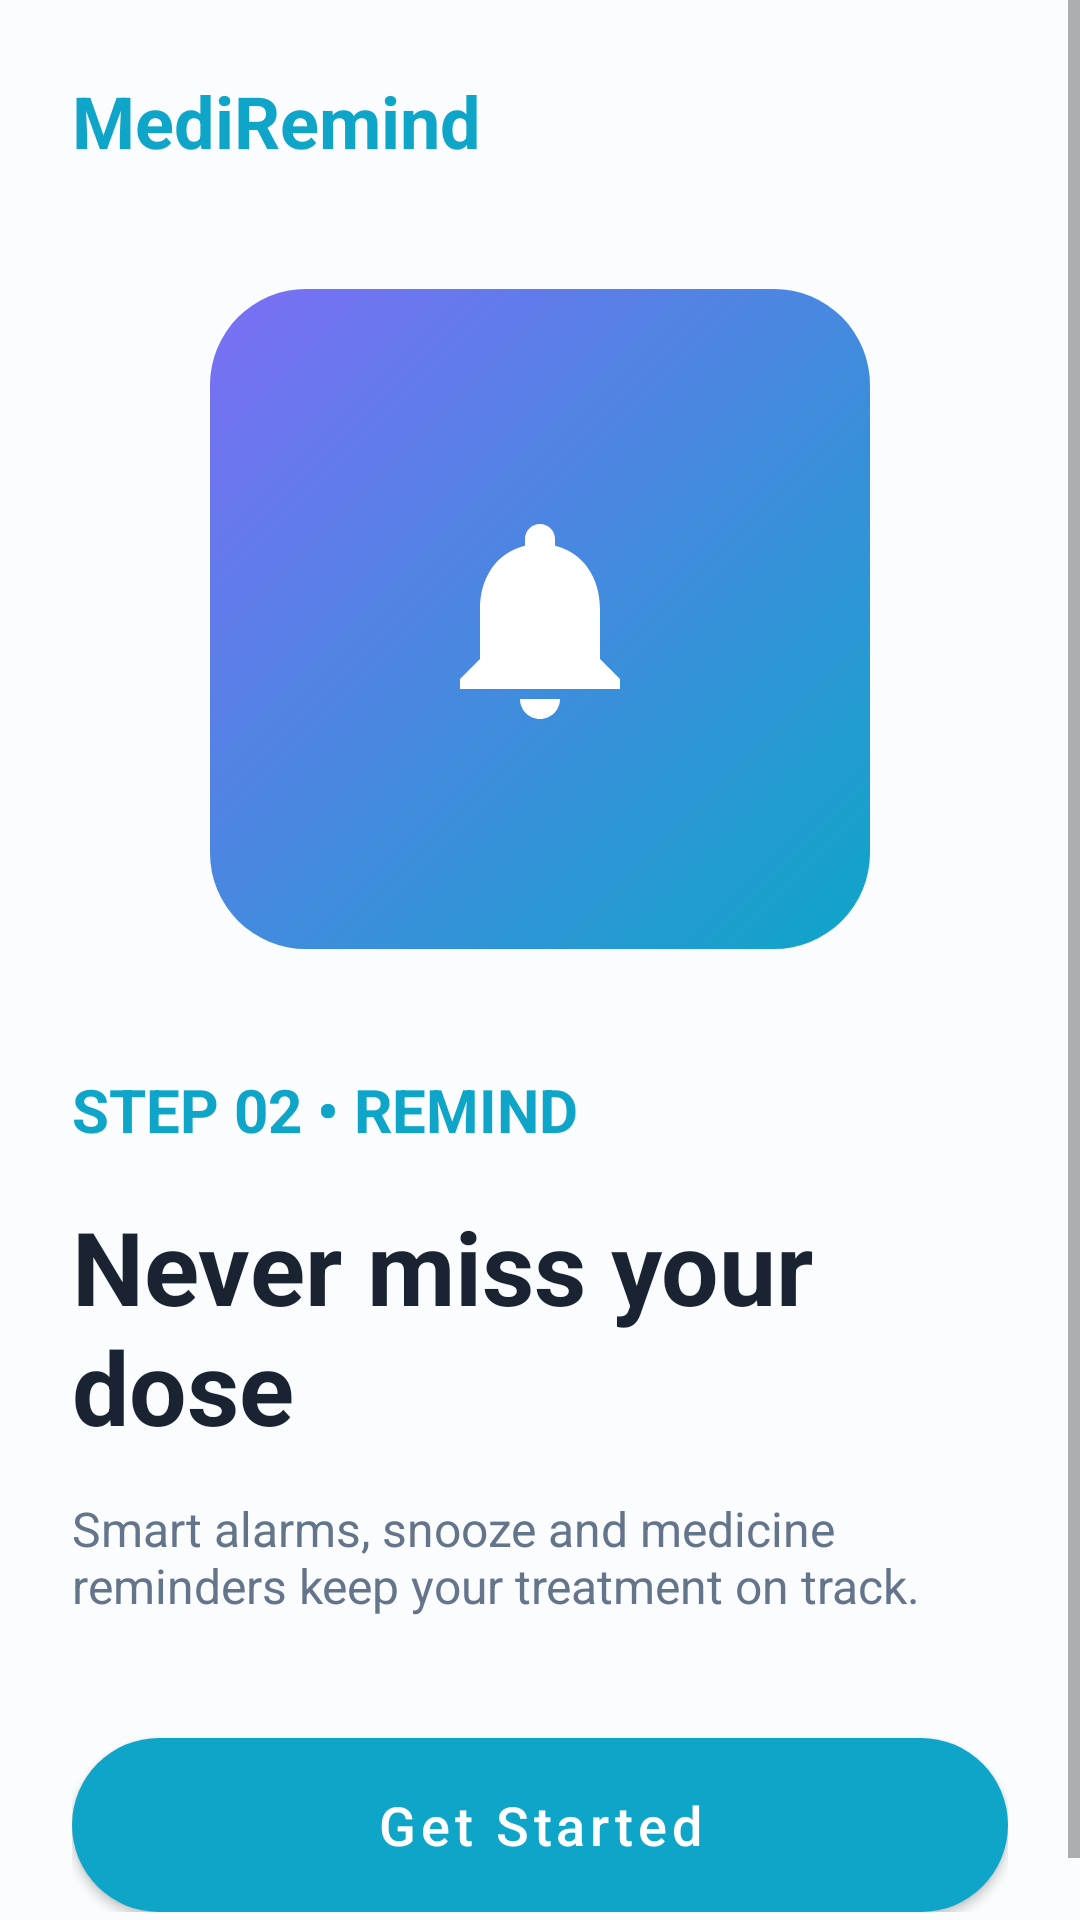

Screen size 1080w x 1920h. Icon name, then its box in pixels as (x1, y1, x2, y2):
bell: (460, 524, 660, 739)
